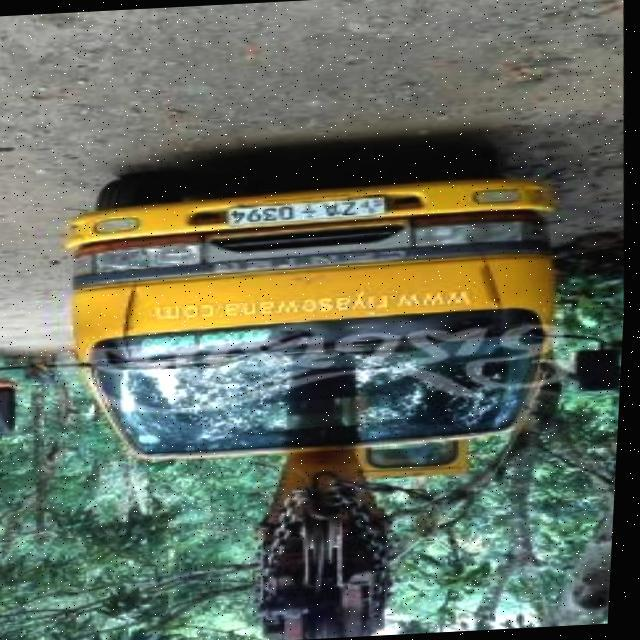truck: (0, 138, 634, 640)
